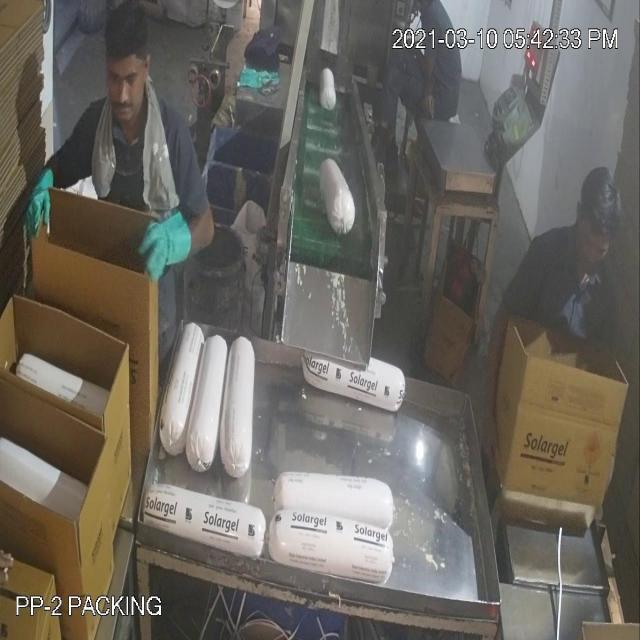Gloves: (40, 99, 500, 382)
